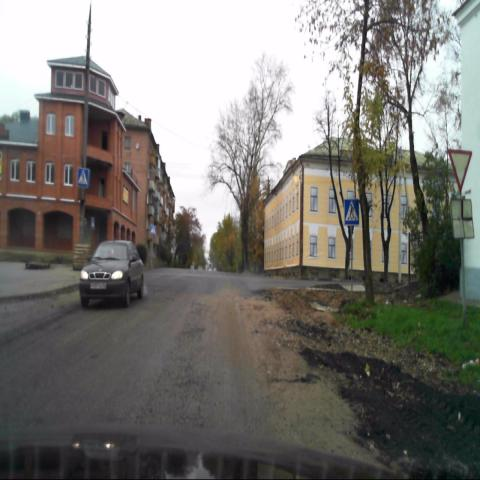8_13: (450, 198, 474, 238)
